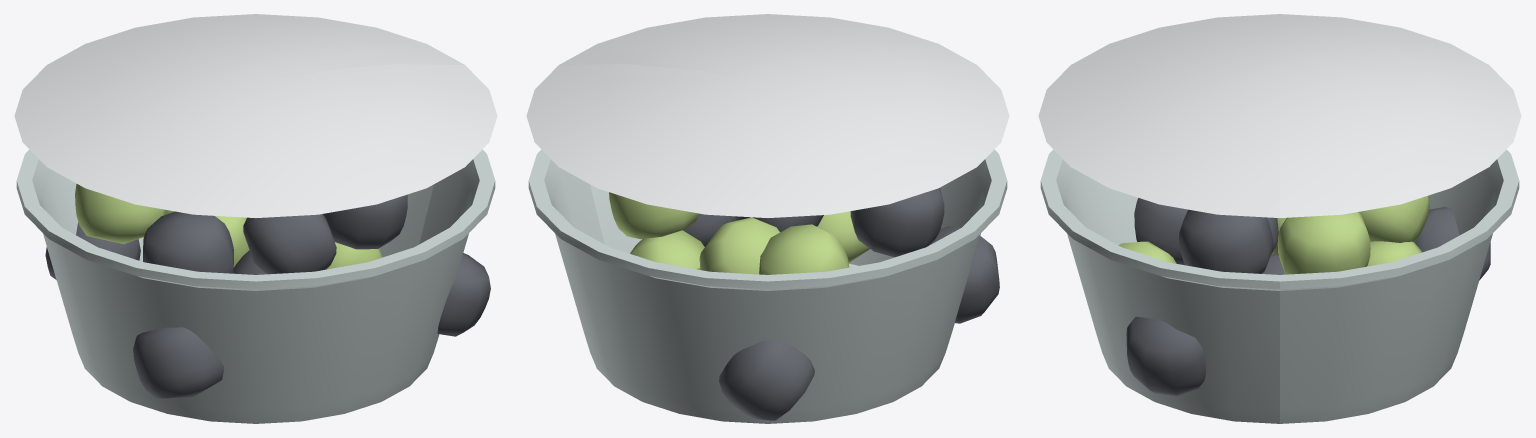
The model's file is fresh-produce-and-groceries-olives-tub-edaa69b9__24409.glb.
3 views of the same model, side by side, from view 1: azimuth 30°, elevation 25°; view 2: azimuth 150°, elevation 25°; view 3: azimuth 270°, elevation 25° (orthographic).
Parts seen in each view (by area): view 1: olives-tub; view 2: olives-tub; view 3: olives-tub.
Boxes of the visible parts, x1,y1,x2,y2 form: olives-tub: (14, 14, 497, 423); olives-tub: (526, 14, 1009, 423); olives-tub: (1038, 14, 1521, 423).
Size of the model in its own units: 0.109 by 0.066 by 0.109.
